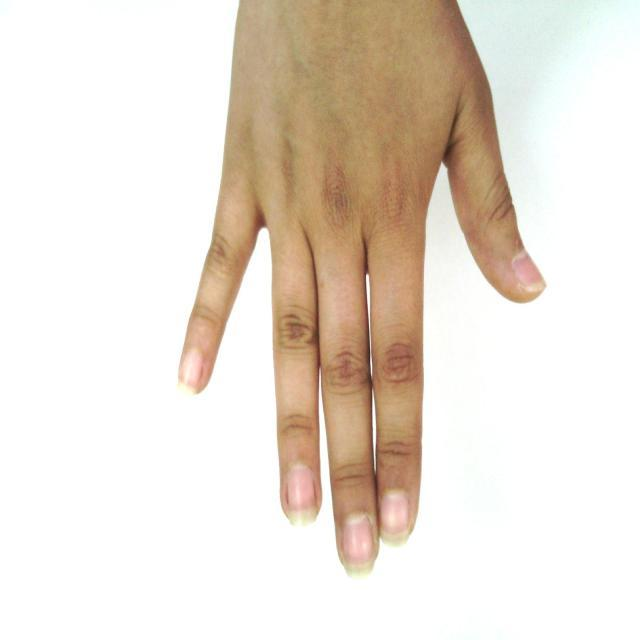Fingernail: (343, 516, 374, 577), (287, 465, 317, 526), (380, 493, 410, 546), (513, 254, 544, 290), (180, 349, 202, 393)
